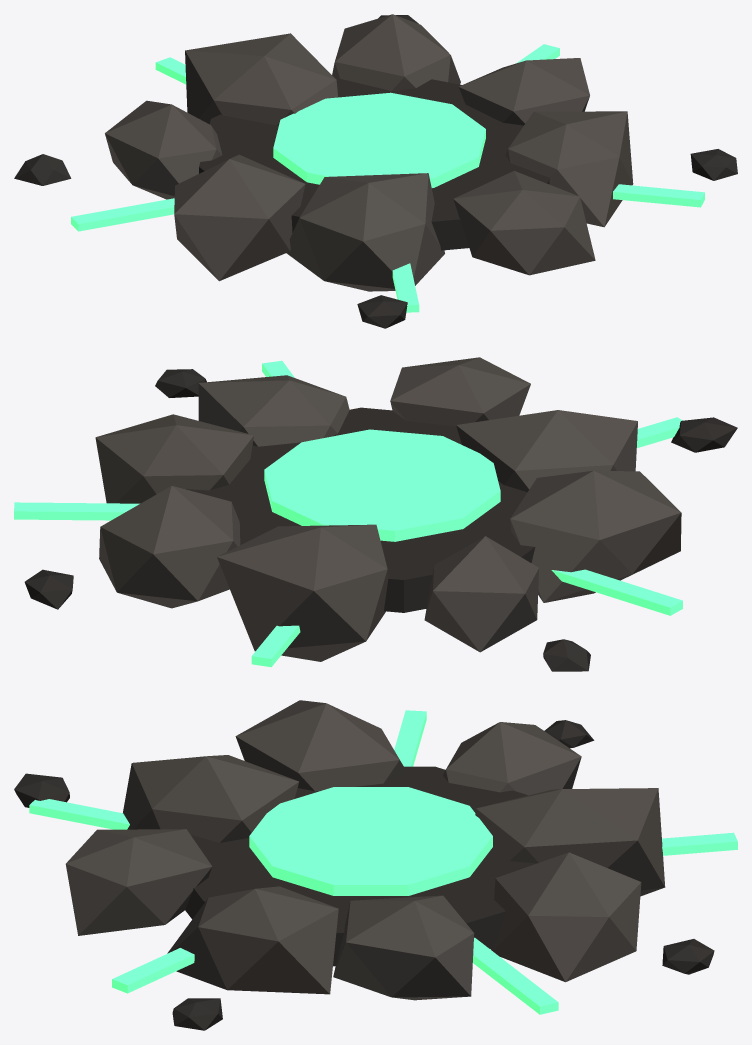
File: gas_vent.glb
The picture shows the model from 3 angles, top to bottom: view 1: azimuth 30°, elevation 25°; view 2: azimuth 150°, elevation 25°; view 3: azimuth 270°, elevation 25°; orthographic projection. The views are drawn at different scales.
Visible parts, largest first — view 1: NODE_GasVent_Mesh; view 2: NODE_GasVent_Mesh; view 3: NODE_GasVent_Mesh.
Boxes of the visible parts, x1,y1,x2,y2 form: NODE_GasVent_Mesh: [14, 14, 737, 328]; NODE_GasVent_Mesh: [14, 357, 737, 671]; NODE_GasVent_Mesh: [14, 700, 737, 1030].
Bounding box in the file's own units: 1.2 × 0.2627 × 1.19.
